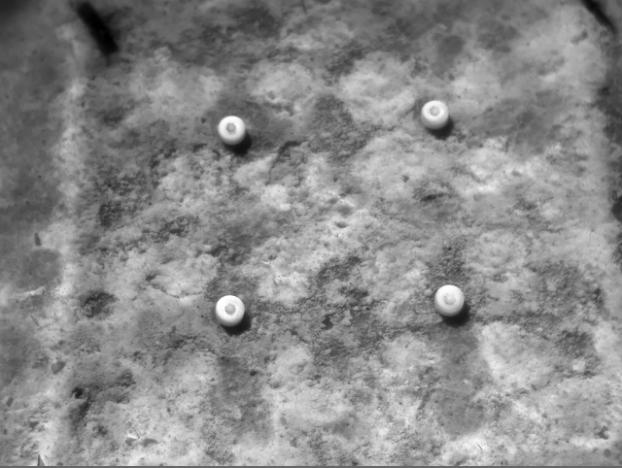landmine: (214, 293, 247, 326), (434, 284, 468, 316), (217, 114, 249, 144), (421, 97, 451, 126)
